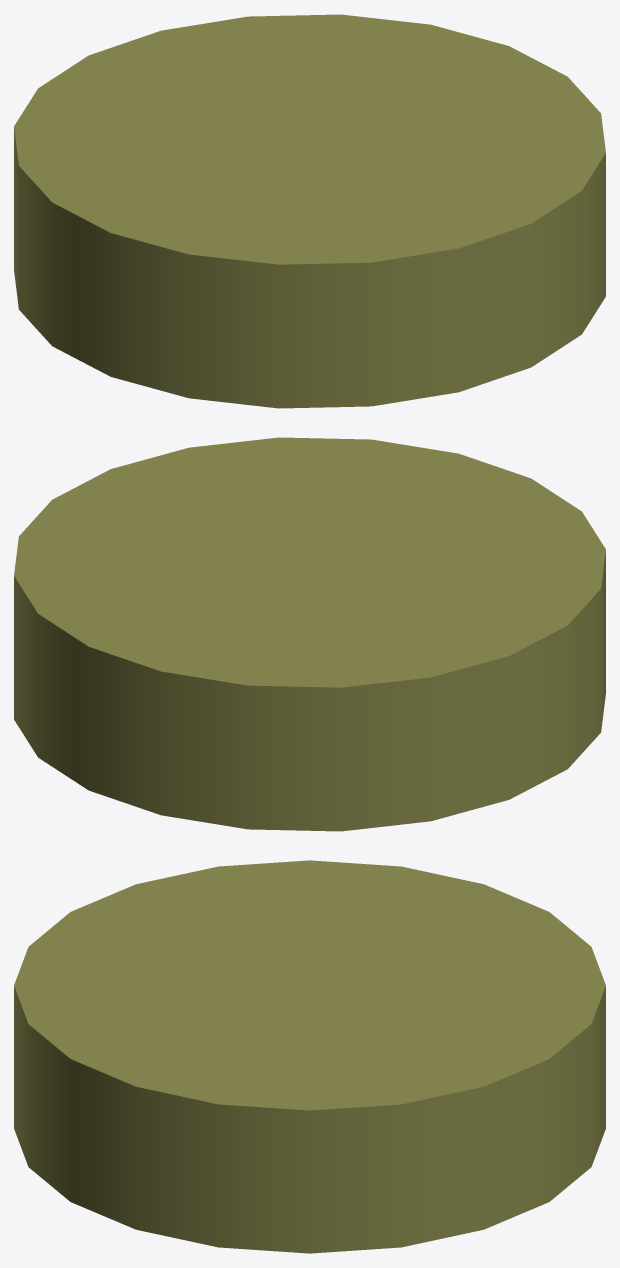
File: arenaGruesa.fbx
3 renders of one model, top to bottom at view 1: azimuth 30°, elevation 25°; view 2: azimuth 150°, elevation 25°; view 3: azimuth 270°, elevation 25°, orthographic.
Parts seen in each view (by area): view 1: ArenaGruesa; view 2: ArenaGruesa; view 3: ArenaGruesa.
Boxes of the visible parts, x1,y1,x2,y2 form: ArenaGruesa: (14, 14, 605, 408); ArenaGruesa: (14, 437, 605, 831); ArenaGruesa: (14, 860, 605, 1253).
Bounding box in the file's own units: 2.14 × 0.5712 × 2.14.
